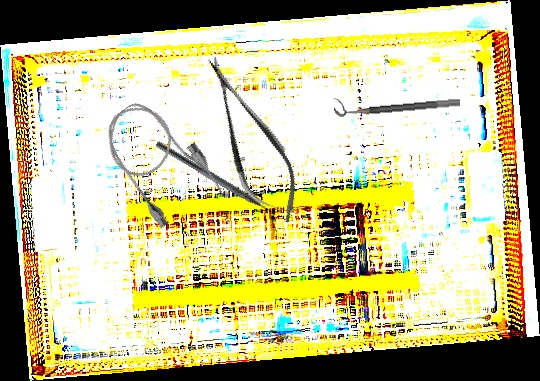Cannula: (91, 87, 229, 235)
Chopper: (149, 140, 283, 226)
Fixation Ring: (333, 87, 461, 118)
Micro Scissor: (188, 44, 315, 235)
